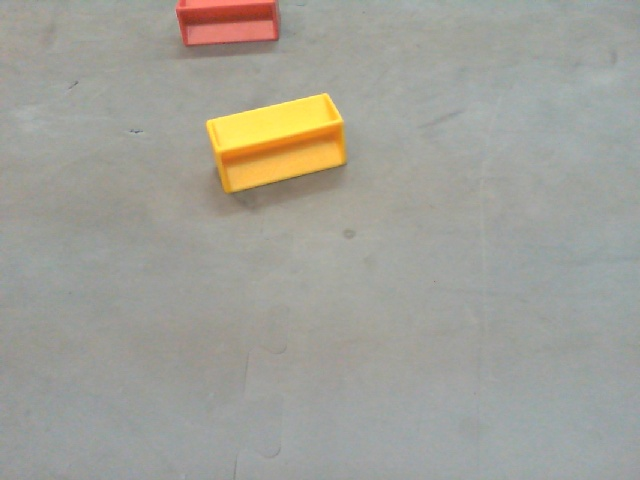RedSample: (176, 1, 283, 50)
YellowSample: (203, 90, 348, 196)
